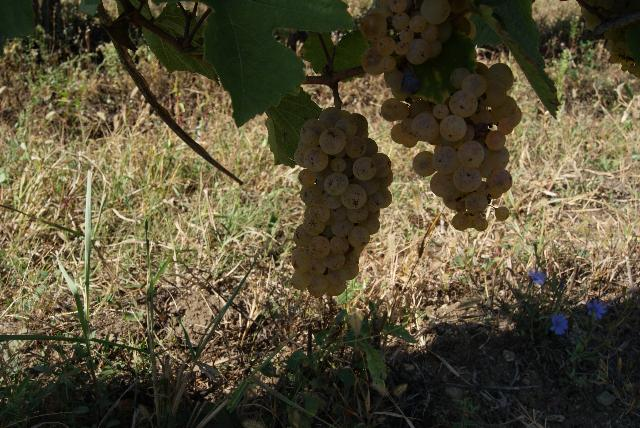grapes: (360, 0, 521, 230), (291, 108, 392, 298)
